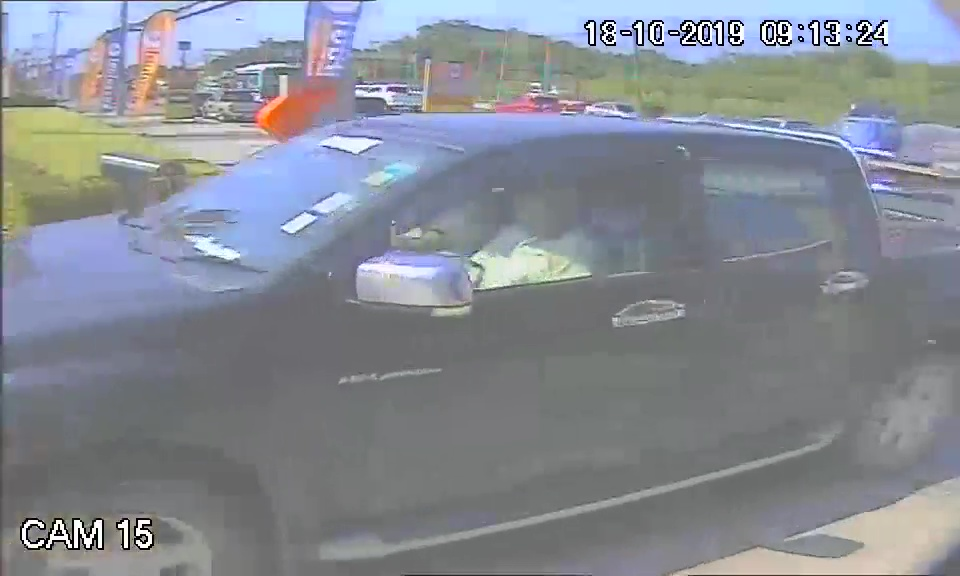pickup: (6, 113, 884, 537)
